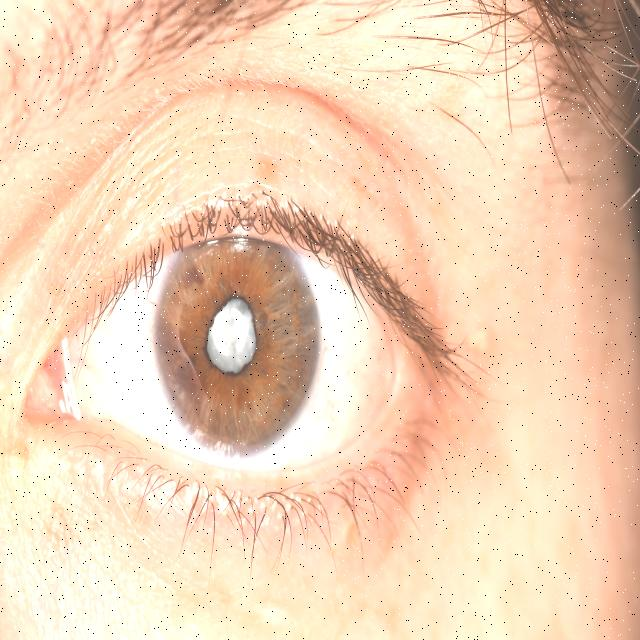Cataract: (40, 222, 449, 509)
